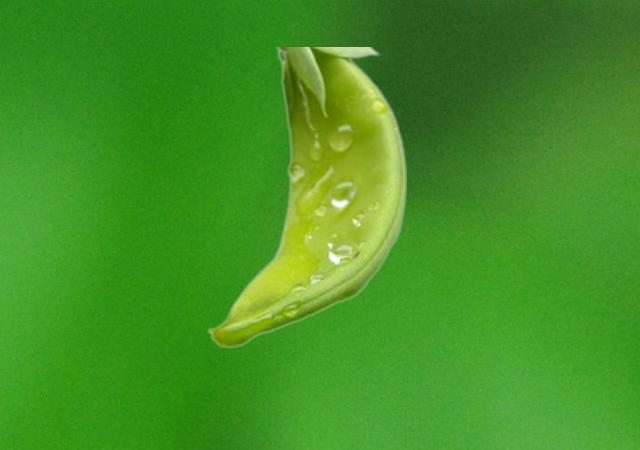pea: (206, 47, 405, 346)
